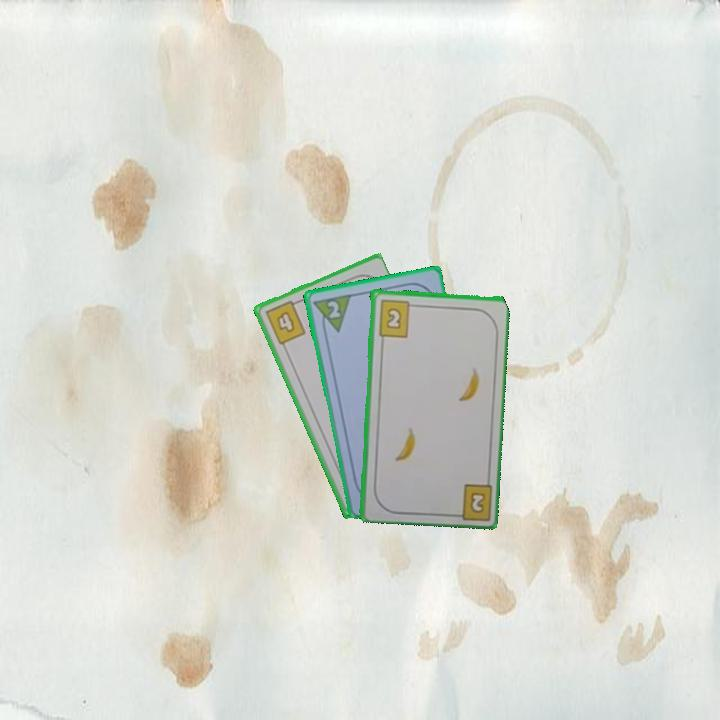2b: (375, 296, 418, 339), (466, 488, 488, 516)
2p: (309, 290, 353, 337)
4b: (261, 296, 308, 348)
